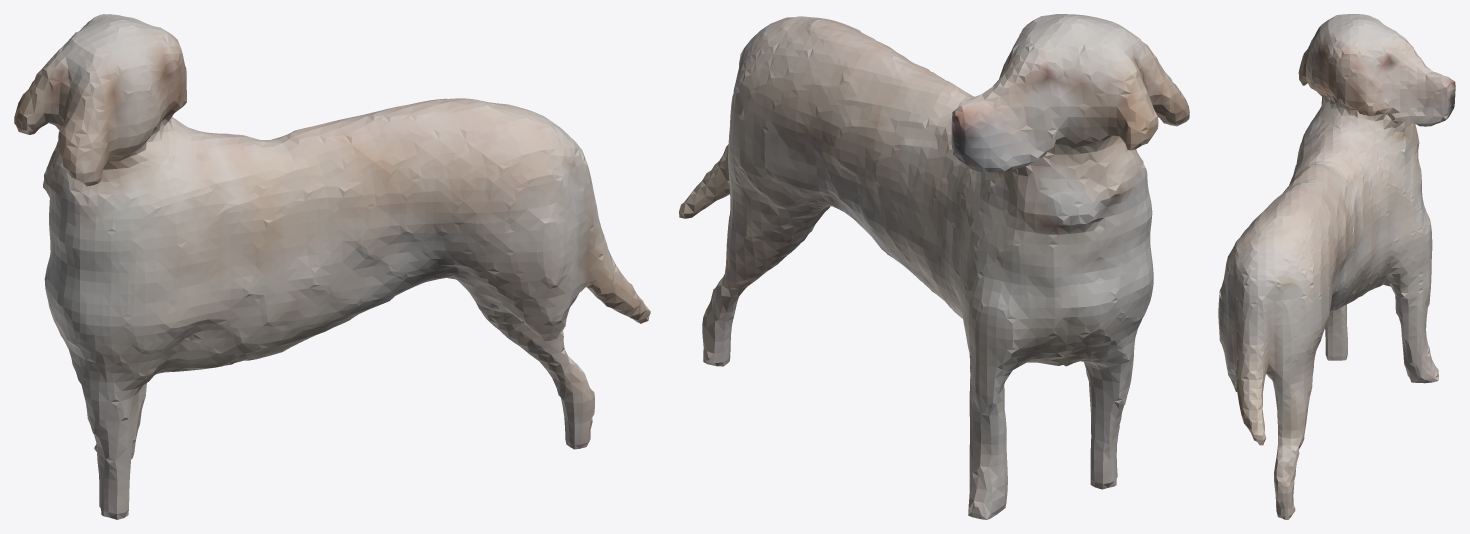
The picture shows the model from 3 angles, left to right: view 1: azimuth 30°, elevation 25°; view 2: azimuth 150°, elevation 25°; view 3: azimuth 270°, elevation 25°; orthographic projection. The views are drawn at different scales.
Visible parts, largest first — view 1: geometry_0; view 2: geometry_0; view 3: geometry_0.
Boxes of the visible parts, bbox=[...] form: geometry_0: bbox=[14, 14, 650, 519]; geometry_0: bbox=[679, 14, 1189, 519]; geometry_0: bbox=[1218, 14, 1455, 519].
Bounding box in the file's own units: 1.81 × 1.51 × 0.9288.
